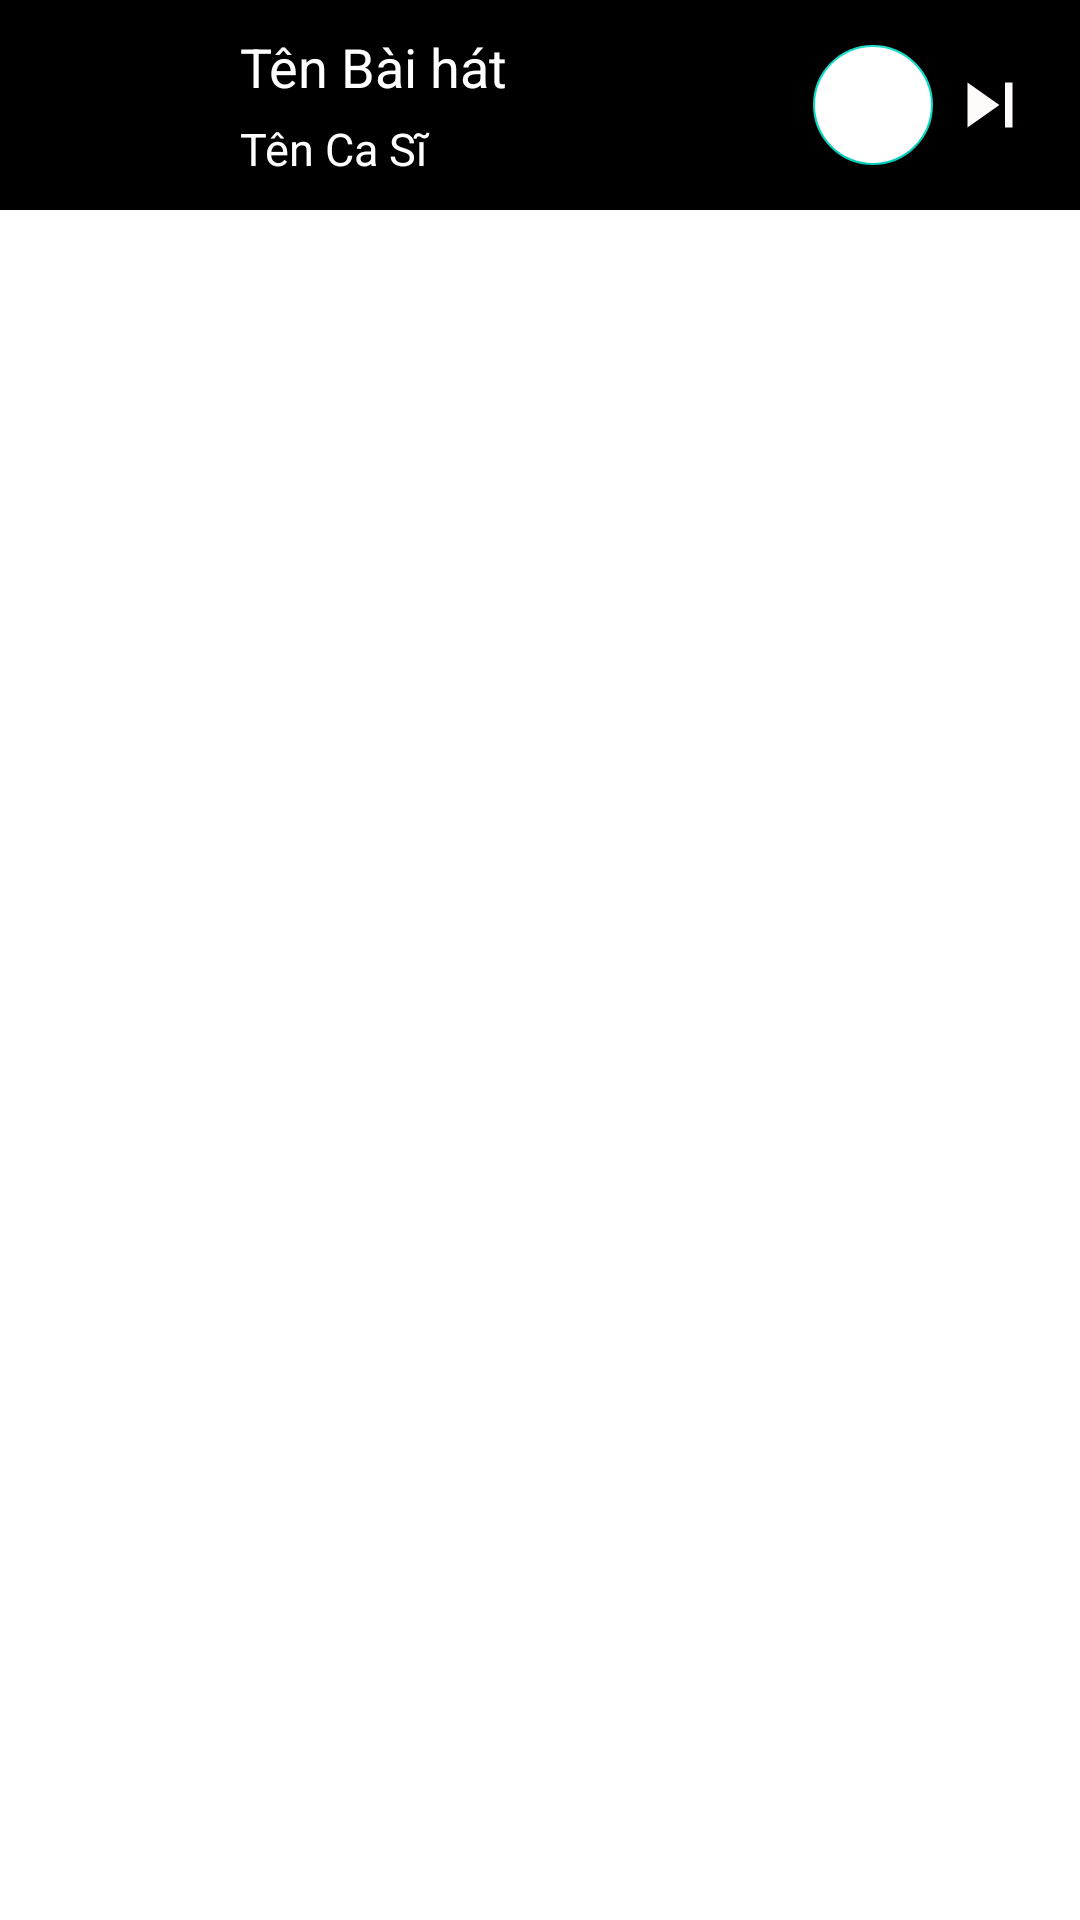

Icons on this 1080w x 1920h Android screen, each with its box as (x1, y1, x2, y2):
skip next: (967, 82, 1013, 128)
